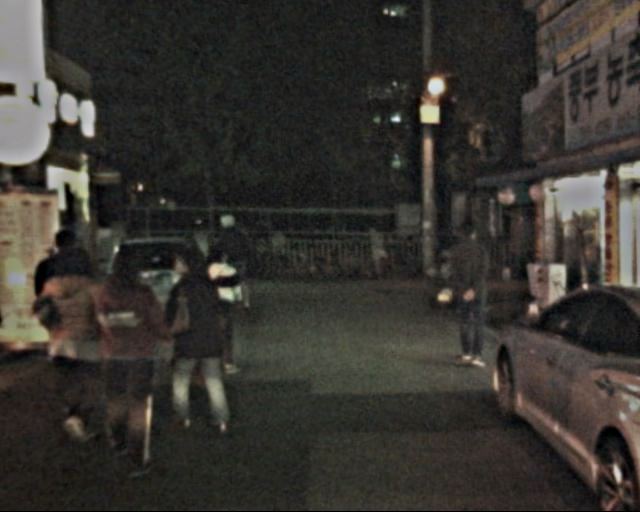person: (81, 239, 168, 476), (32, 236, 110, 445), (154, 237, 232, 438), (446, 213, 502, 370), (191, 243, 247, 374)
